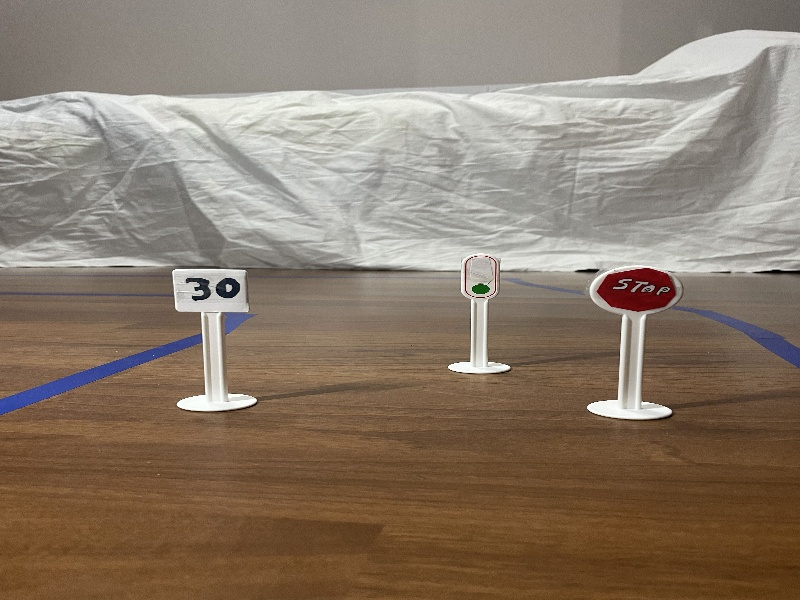semafor_verde: (458, 249, 508, 308)
stop: (584, 258, 687, 322)
viteza_limita_30: (157, 258, 259, 318)
